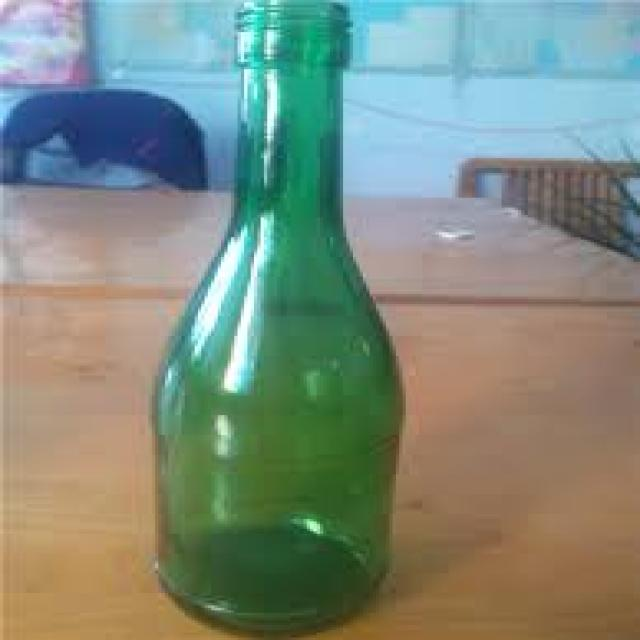glass: (145, 0, 399, 638)
